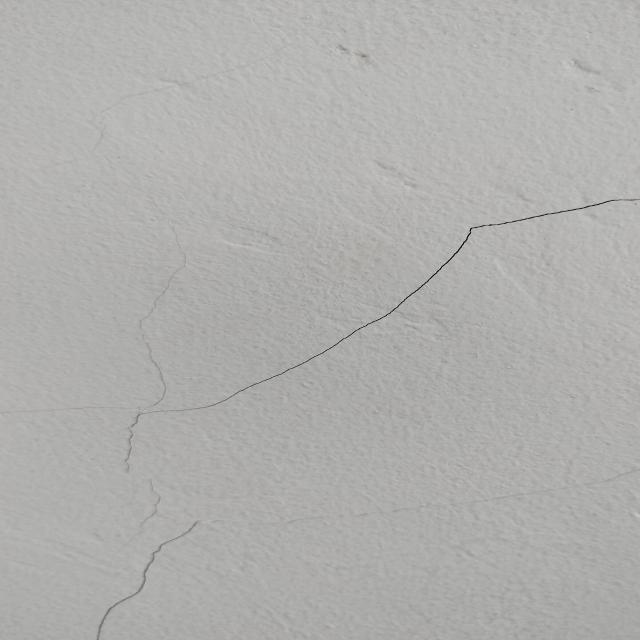Crack: (114, 195, 640, 476), (90, 518, 202, 640)
